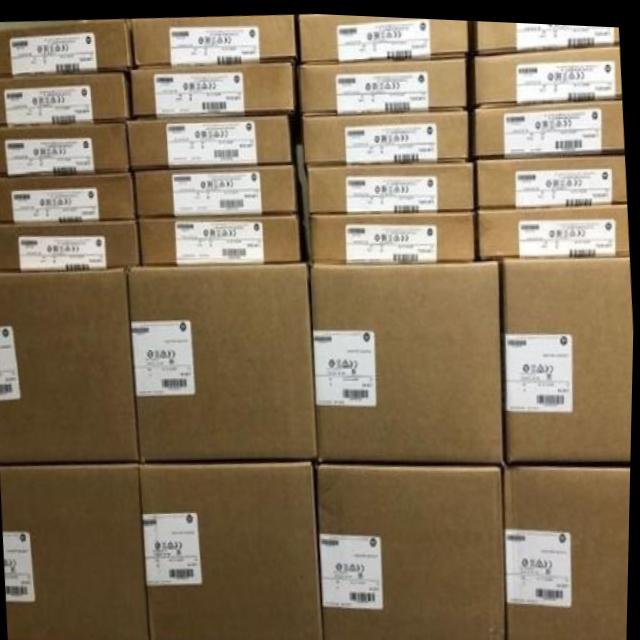box: (312, 257, 505, 460), (131, 260, 317, 460), (324, 461, 507, 640), (144, 461, 325, 640), (0, 270, 141, 466), (500, 254, 634, 458), (3, 466, 152, 640), (508, 460, 632, 640), (299, 51, 468, 113), (301, 104, 469, 164), (472, 38, 622, 105), (130, 58, 296, 115), (474, 92, 625, 153), (308, 208, 477, 262), (136, 212, 307, 264), (135, 162, 304, 214), (476, 196, 630, 253), (127, 114, 295, 166), (297, 12, 468, 63), (476, 147, 628, 204), (305, 158, 475, 208), (129, 14, 295, 64), (0, 19, 133, 75), (0, 120, 129, 177), (0, 67, 127, 124), (0, 217, 139, 269), (0, 173, 138, 224), (467, 16, 619, 51)
